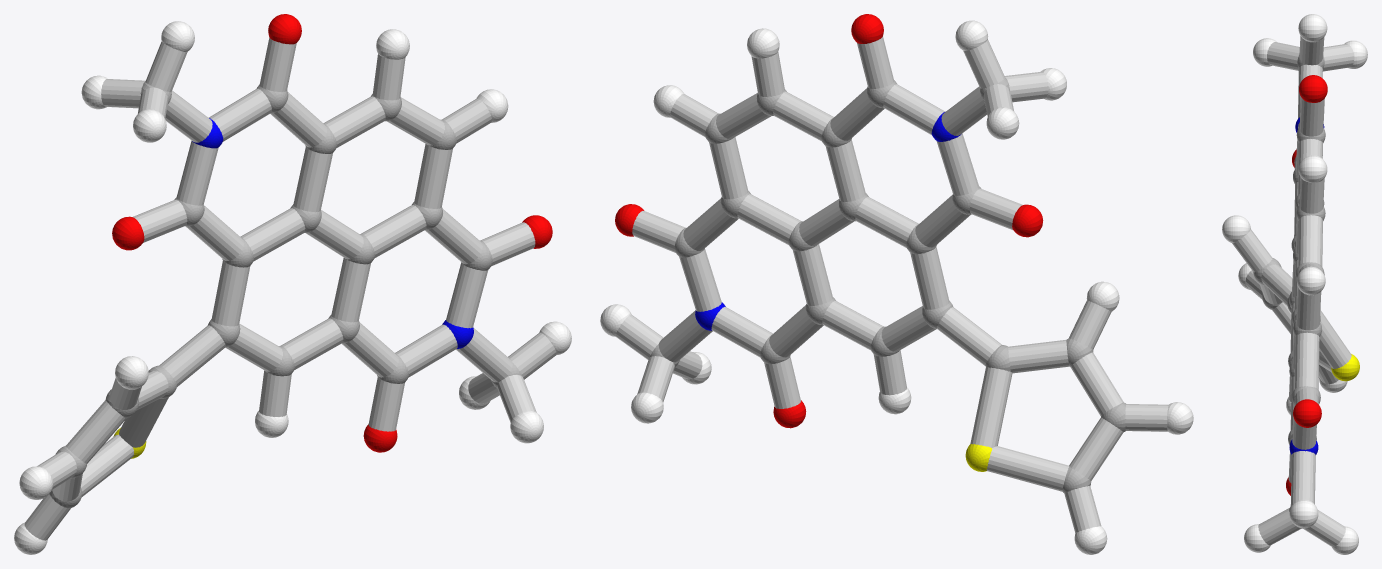
File: Dimethyl_Naphthalene_Dicarboximide_Phi_5_Theta_320_Thiophene.glb
The picture shows the model from 3 angles, left to right: view 1: azimuth 30°, elevation 25°; view 2: azimuth 150°, elevation 25°; view 3: azimuth 270°, elevation 25°; orthographic projection. The views are drawn at different scales.
Parts seen in each view (by area): view 1: grp14119, grp7241, grp1, grp12309, grp11585; view 2: grp14119, grp7241, grp1, grp12309, grp11585; view 3: grp14119, grp7241, grp1, grp12309, grp13757, grp11585.
Boxes of the visible parts, left/top/right/bottom form: grp14119: left=24, top=37, right=556, bottom=540; grp7241: left=14, top=21, right=571, bottom=554; grp1: left=49, top=81, right=522, bottom=508; grp12309: left=112, top=14, right=552, bottom=452; grp11585: left=192, top=118, right=473, bottom=348; grp14119: left=615, top=36, right=1168, bottom=533; grp7241: left=600, top=20, right=1193, bottom=554; grp1: left=650, top=77, right=1126, bottom=493; grp12309: left=615, top=14, right=1043, bottom=428; grp11585: left=695, top=112, right=961, bottom=330; grp14119: left=1232, top=36, right=1354, bottom=546; grp7241: left=1222, top=14, right=1367, bottom=554; grp1: left=1253, top=55, right=1325, bottom=528; grp12309: left=1286, top=75, right=1327, bottom=495; grp13757: left=1331, top=354, right=1359, bottom=381; grp11585: left=1289, top=117, right=1324, bottom=454.
Bounding box in the file's own units: 11.83 × 9.91 × 3.03.
